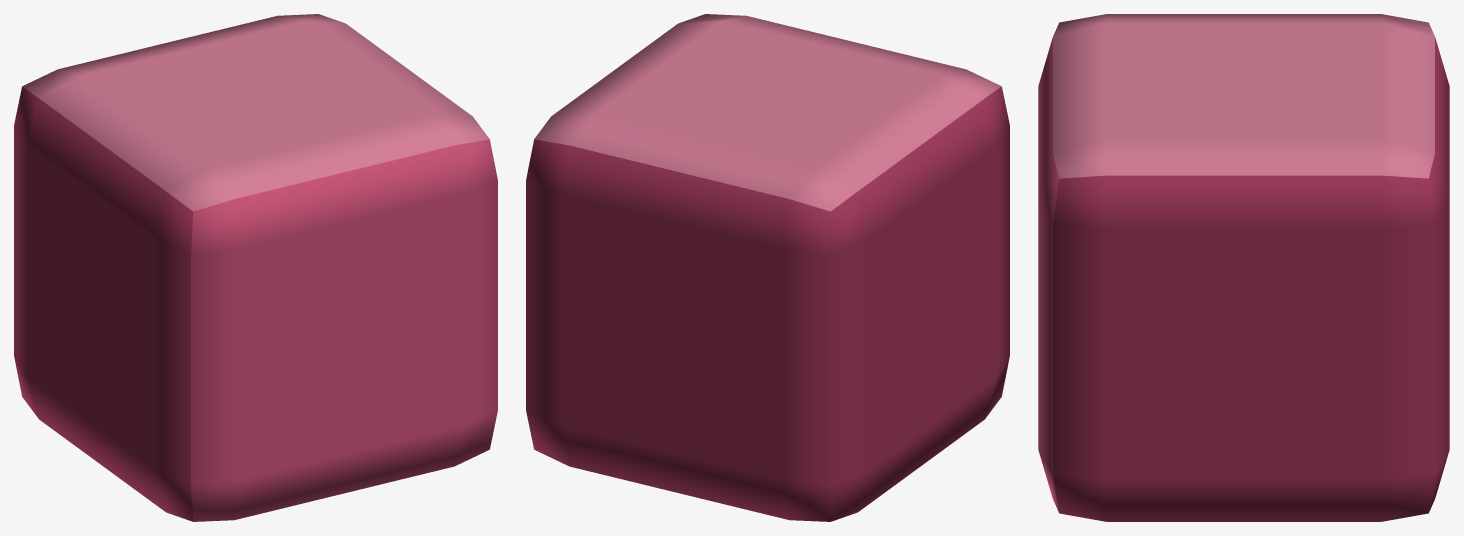
File: cube-pink.glb
3 views of the same model, side by side, from view 1: azimuth 30°, elevation 25°; view 2: azimuth 150°, elevation 25°; view 3: azimuth 270°, elevation 25° (orthographic). The views are drawn at different scales.
Parts seen in each view (by area): view 1: Cube_Pink; view 2: Cube_Pink; view 3: Cube_Pink.
Boxes of the visible parts, x1,y1,x2,y2 form: Cube_Pink: (14, 14, 497, 521); Cube_Pink: (526, 14, 1009, 521); Cube_Pink: (1038, 14, 1449, 521).
Size of the model in its own units: 1 by 1 by 1.
